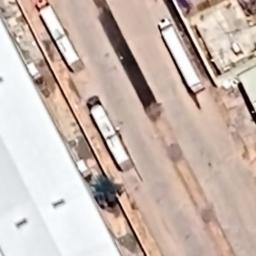truck: (34, 0, 86, 74), (86, 94, 134, 174), (158, 16, 206, 94)
